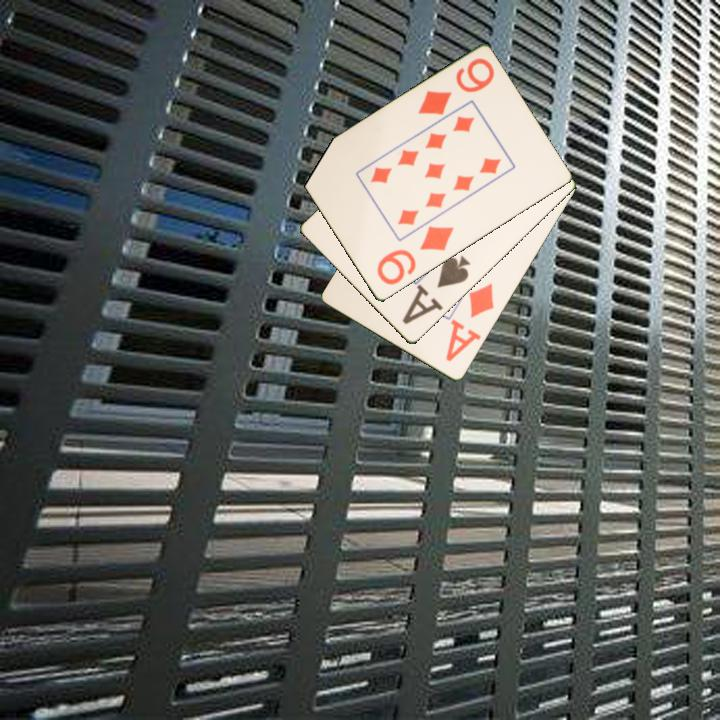9d: (373, 223, 457, 288), (414, 55, 497, 118)
Ad: (442, 280, 497, 365)
As: (406, 253, 474, 320)
